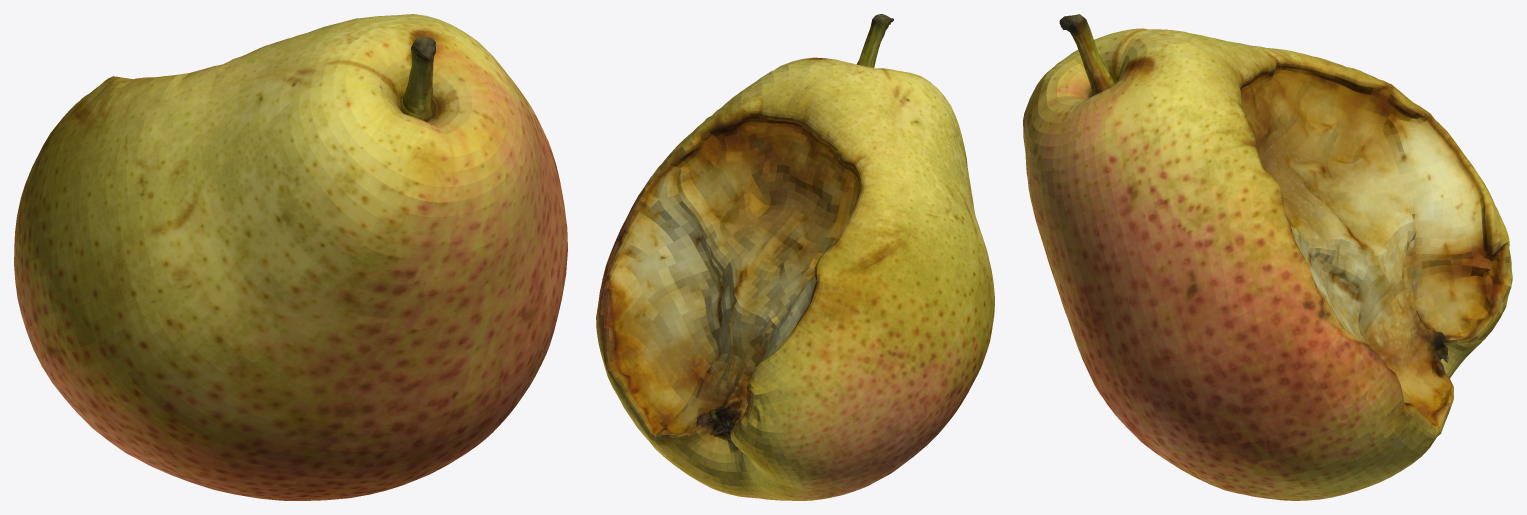
File: eaten-pear.glb
3 renders of one model, left to right at view 1: azimuth 30°, elevation 25°; view 2: azimuth 150°, elevation 25°; view 3: azimuth 270°, elevation 25°, orthographic. The views are drawn at different scales.
Parts seen in each view (by area): view 1: BittenPear01; view 2: BittenPear01; view 3: BittenPear01.
Part boxes in pixels (x1,y1,x2,y2): BittenPear01: (14, 14, 567, 500); BittenPear01: (596, 14, 994, 500); BittenPear01: (1023, 14, 1512, 500).
Bounding box in the file's own units: 0.863 × 0.9275 × 0.8975.
1 material, 1 textured.
